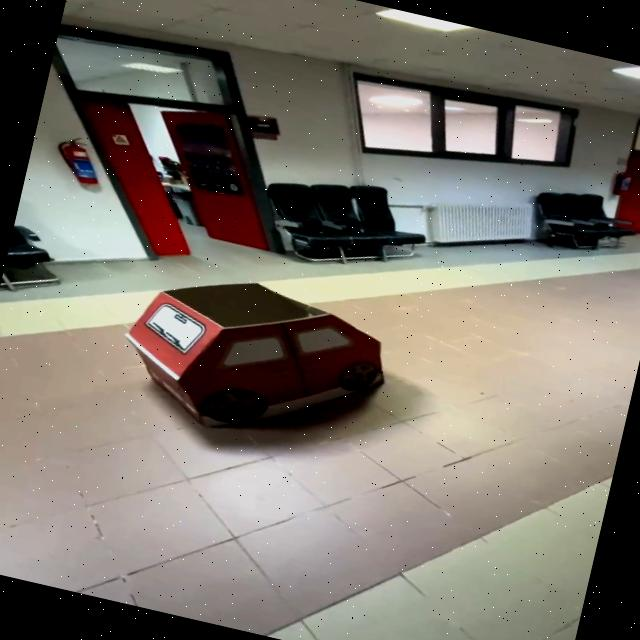red_car: (91, 244, 428, 480)
